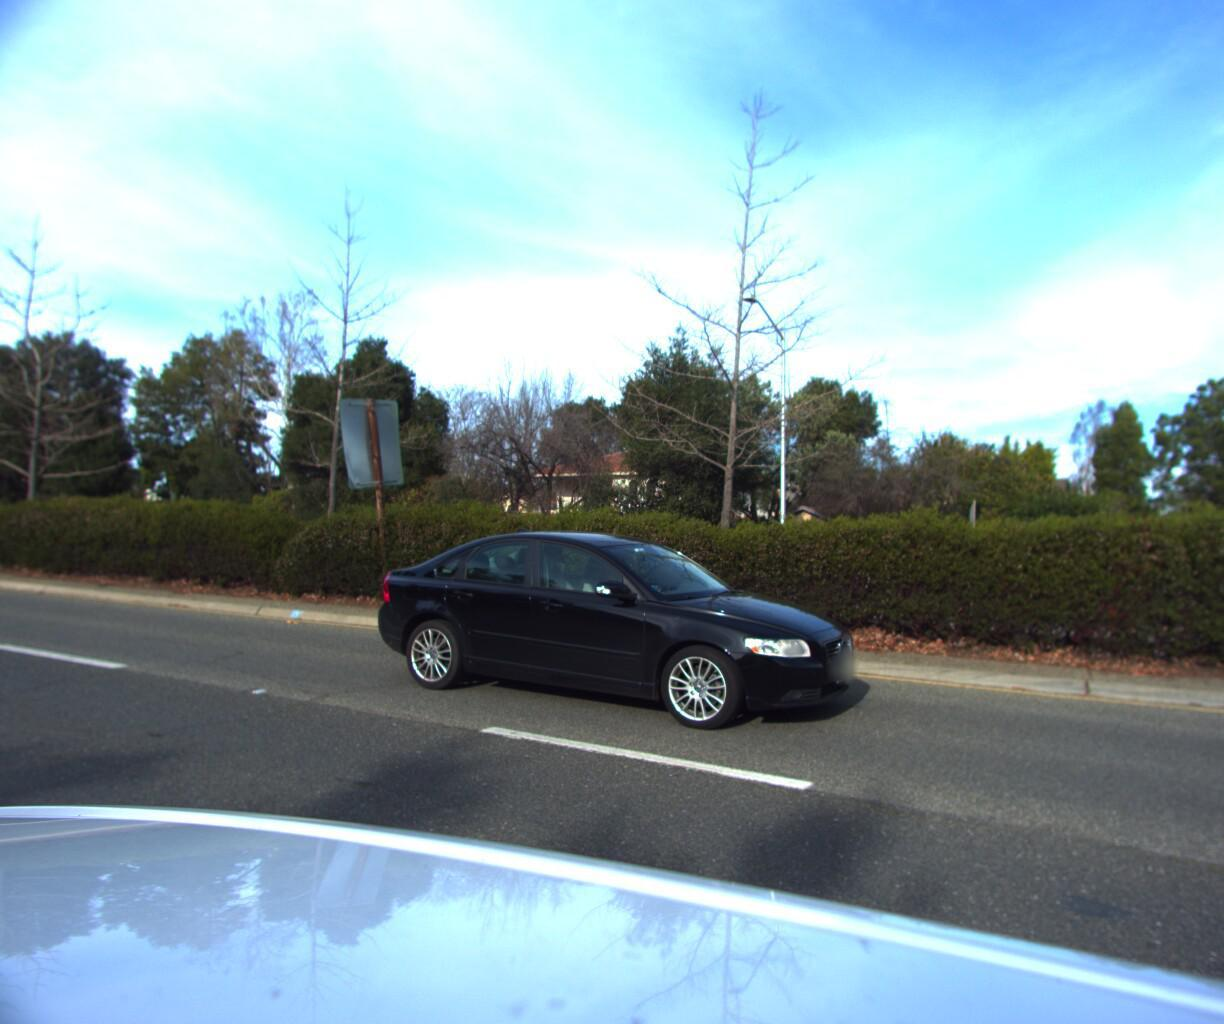car: (355, 517, 861, 738)
